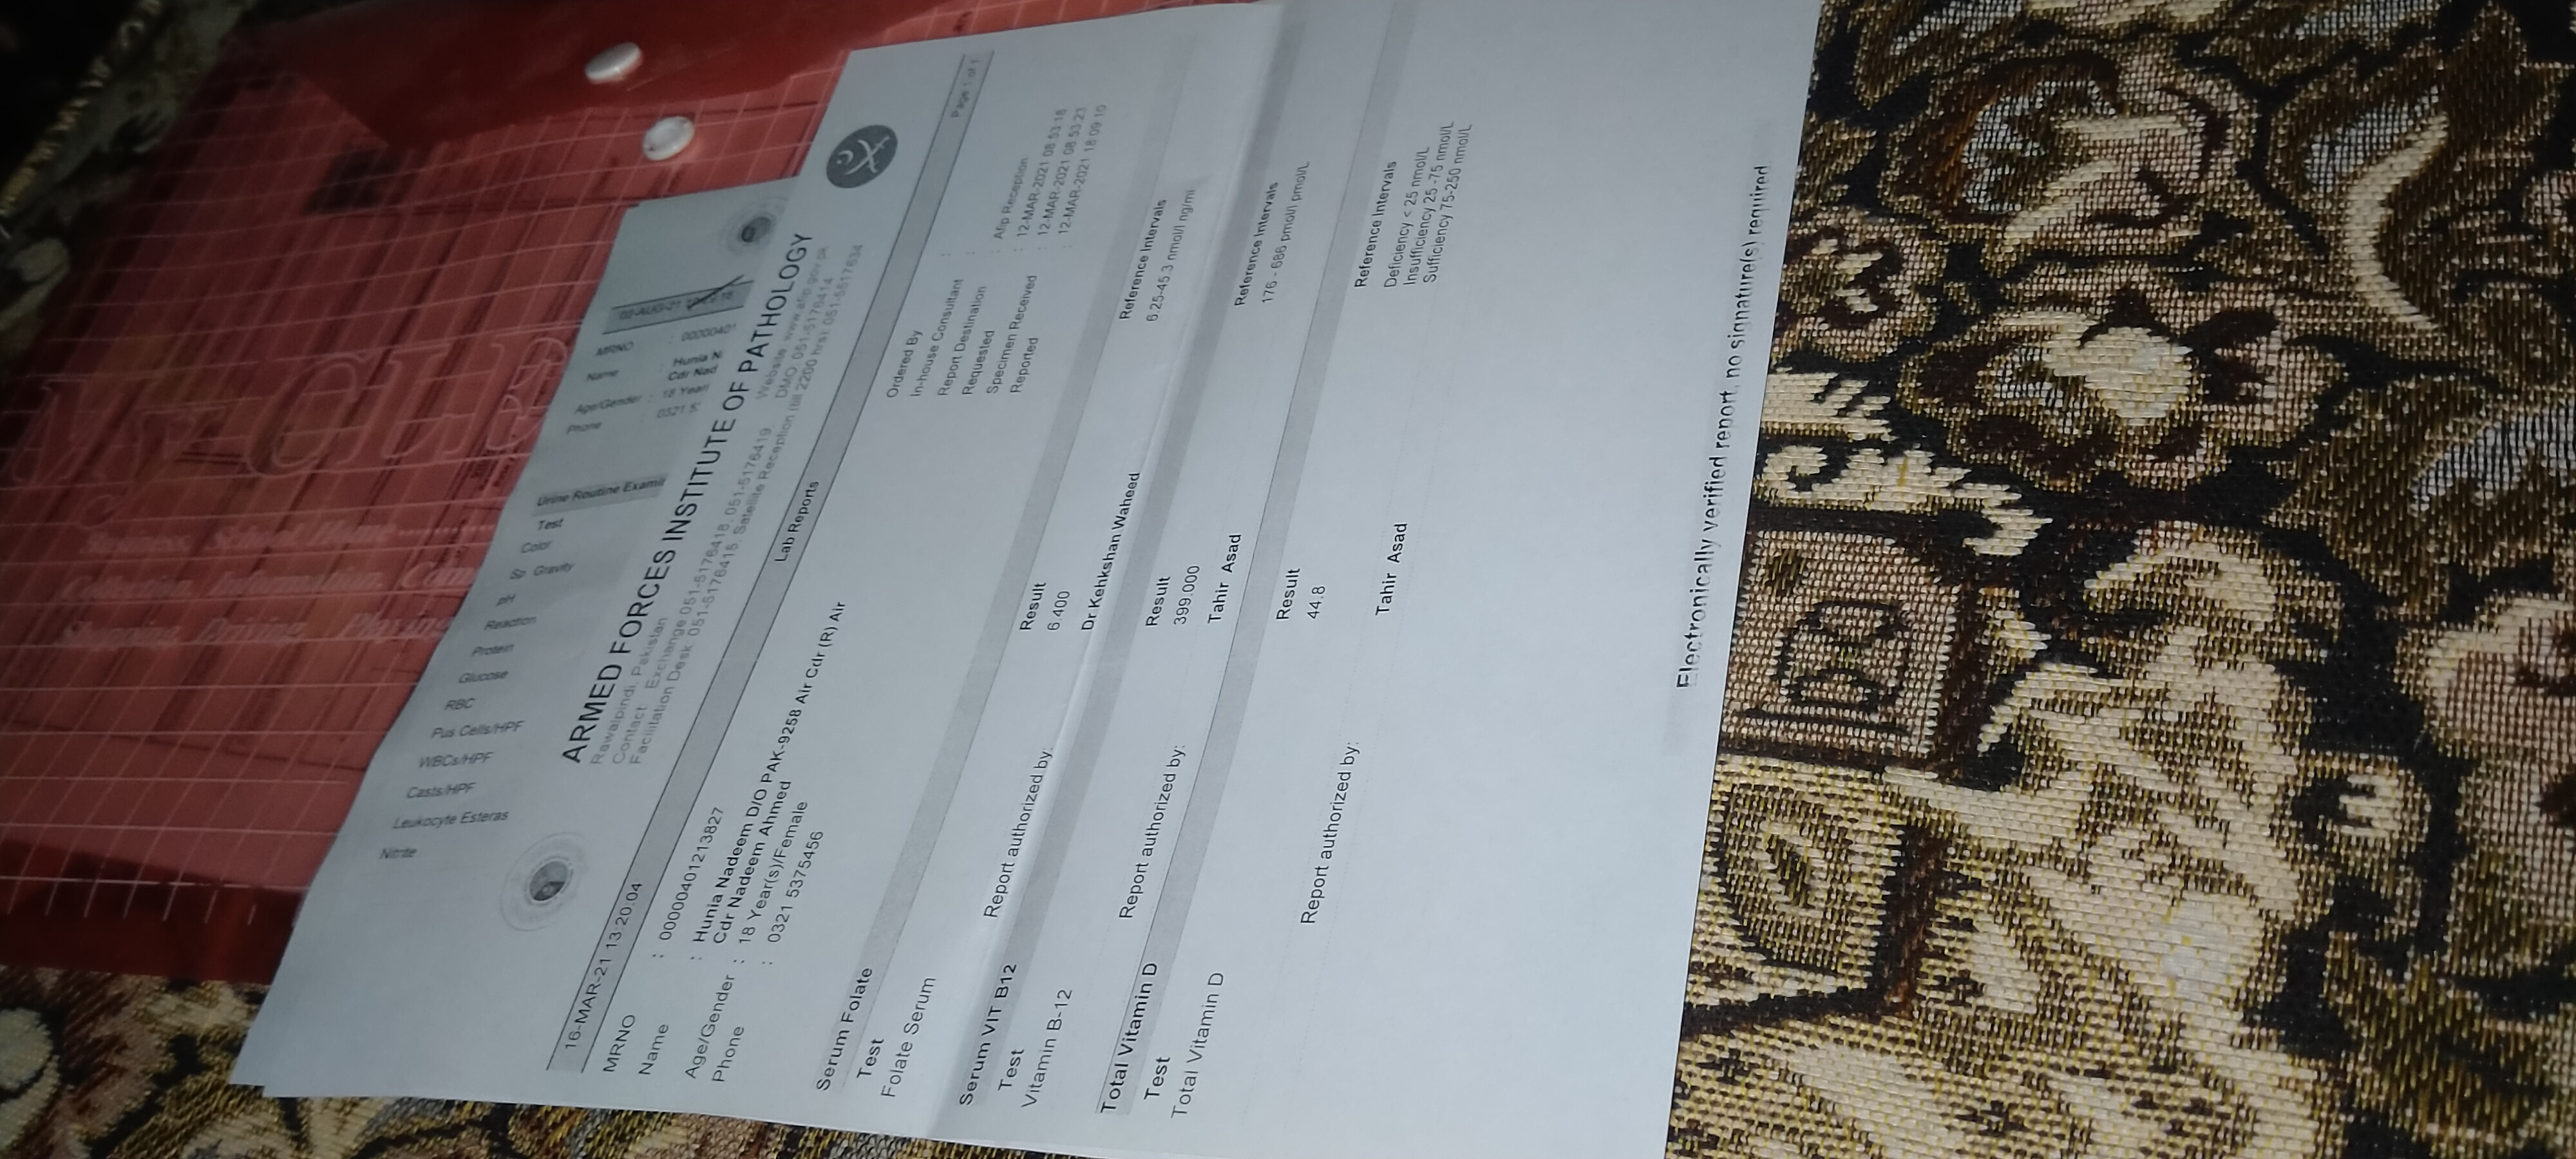report: (539, 18, 1561, 1141)
